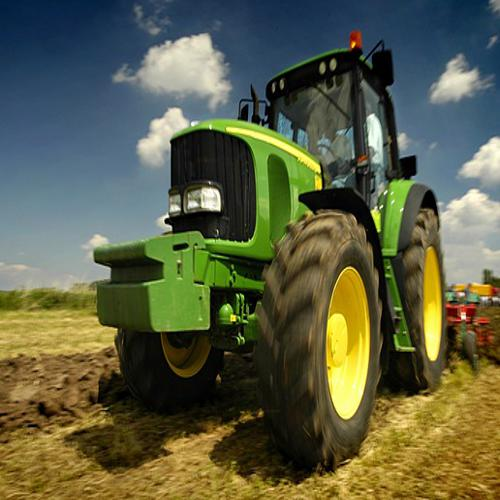con_eq: (87, 38, 446, 471)
